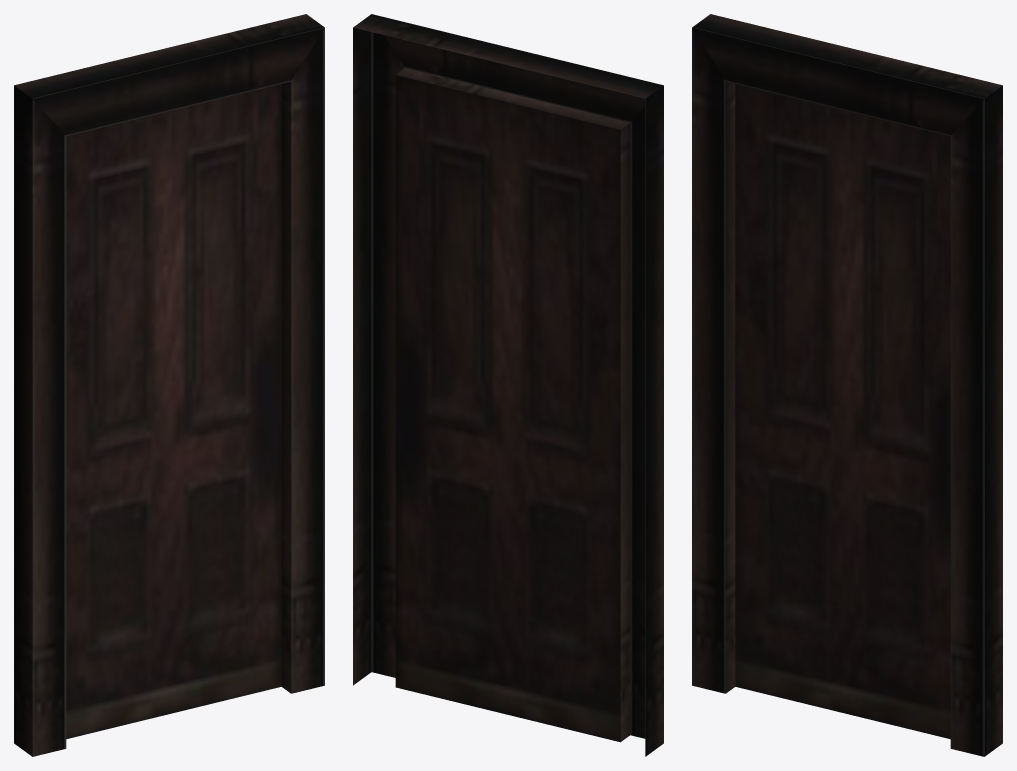
The model's file is Slap_SH_DOOR.fbx.
The picture shows the model from 3 angles, left to right: view 1: azimuth 30°, elevation 25°; view 2: azimuth 150°, elevation 25°; view 3: azimuth 330°, elevation 25°; orthographic projection.
Visible parts, largest first — view 1: Slap_SH_DOOR; view 2: Slap_SH_DOOR; view 3: Slap_SH_DOOR.
Boxes of the visible parts, x1,y1,x2,y2 form: Slap_SH_DOOR: (14, 14, 324, 756); Slap_SH_DOOR: (353, 14, 663, 756); Slap_SH_DOOR: (692, 14, 1002, 756).
Size of the model in its own units: 0.5604 by 1.21 by 0.0614.
1 material, 1 textured.
